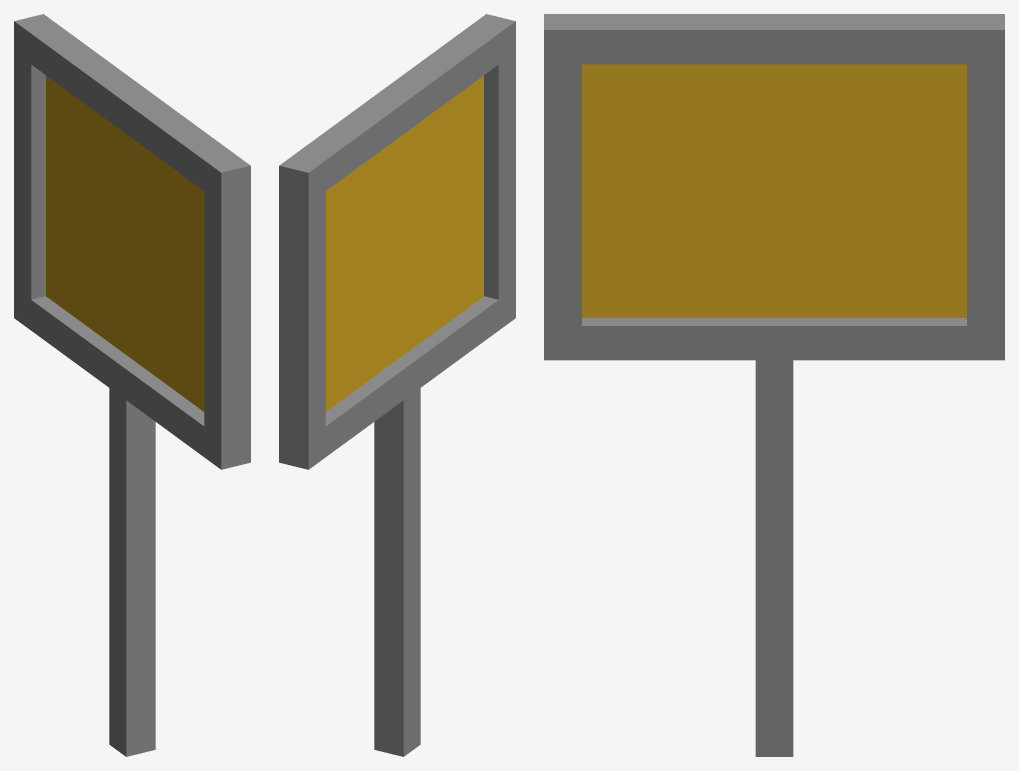
The model's file is city_limit.glb.
The picture shows the model from 3 angles, left to right: view 1: azimuth 30°, elevation 25°; view 2: azimuth 150°, elevation 25°; view 3: azimuth 270°, elevation 25°; orthographic projection. The views are drawn at different scales.
Visible parts, largest first — view 1: Cube; view 2: Cube; view 3: Cube.
Boxes of the visible parts, box(x1,y1,x2,y2) form: Cube: box(14, 14, 250, 756); Cube: box(279, 14, 515, 756); Cube: box(544, 14, 1004, 756).
Size of the model in its own units: 0.0865 by 1.83 by 1.05.
